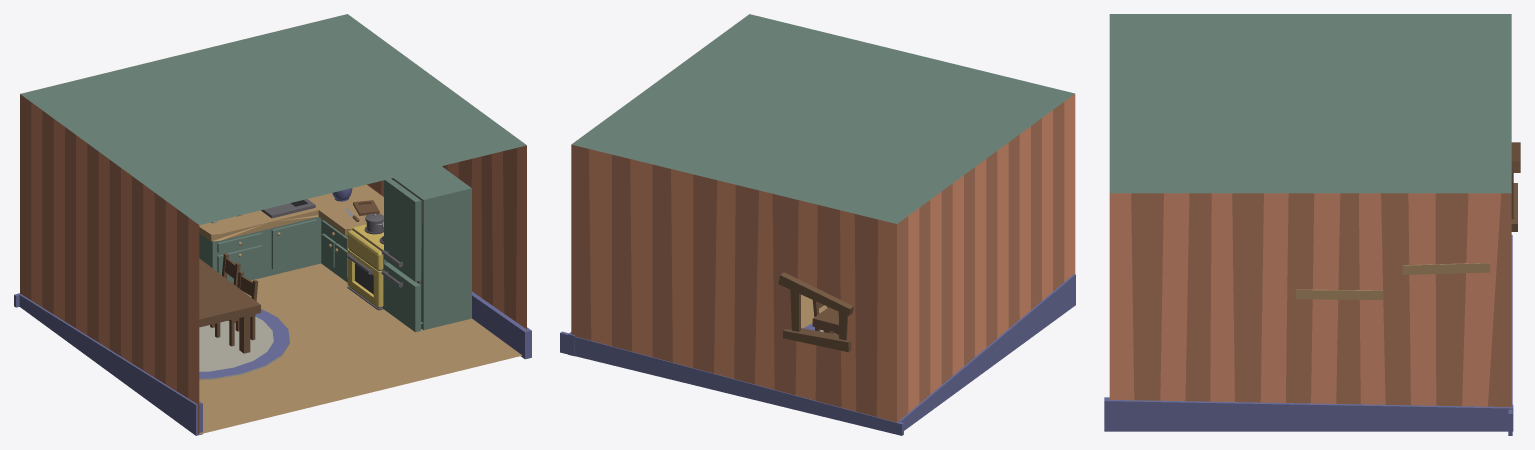
Rendered from Aunt_J_room.fbx.
3 views of the same model, side by side, from view 1: azimuth 30°, elevation 25°; view 2: azimuth 150°, elevation 25°; view 3: azimuth 270°, elevation 25° (orthographic). The views are drawn at different scales.
Parts seen in each view (by area): view 1: polySurface21, polySurface20, pCube29, polySurface19, polySurface13, pCylinder27, pCube45, pCube46; view 2: polySurface20, polySurface21, polySurface13, polySurface18, pCube45; view 3: polySurface20, polySurface21, polySurface13, pCube30, pCube31, polySurface18.
Part boxes in pixels (left/top/right/bottom): polySurface21: left=20, top=14, right=526, bottom=225; polySurface20: left=20, top=14, right=526, bottom=433; pCube29: left=199, top=166, right=471, bottom=332; polySurface19: left=199, top=263, right=522, bottom=434; polySurface13: left=14, top=291, right=531, bottom=435; pCylinder27: left=199, top=309, right=289, bottom=379; pCube45: left=199, top=258, right=260, bottom=353; pCube46: left=215, top=271, right=258, bottom=346; polySurface20: left=571, top=94, right=1075, bottom=422; polySurface21: left=571, top=14, right=1074, bottom=223; polySurface13: left=560, top=274, right=1075, bottom=435; polySurface18: left=778, top=272, right=853, bottom=352; pCube45: left=812, top=307, right=838, bottom=333; polySurface20: left=1109, top=193, right=1511, bottom=406; polySurface21: left=1109, top=14, right=1511, bottom=193; polySurface13: left=1104, top=235, right=1513, bottom=435; pCube30: left=1295, top=289, right=1383, bottom=299; pCube31: left=1402, top=262, right=1490, bottom=274; polySurface18: left=1511, top=142, right=1520, bottom=231.
Size of the model in its own units: 14.55 by 8.57 by 13.61.
